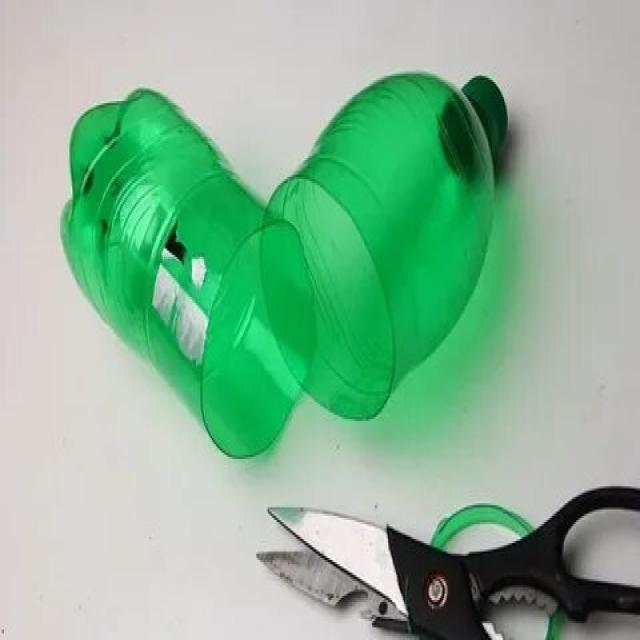green: (57, 73, 316, 460), (264, 73, 496, 423)
